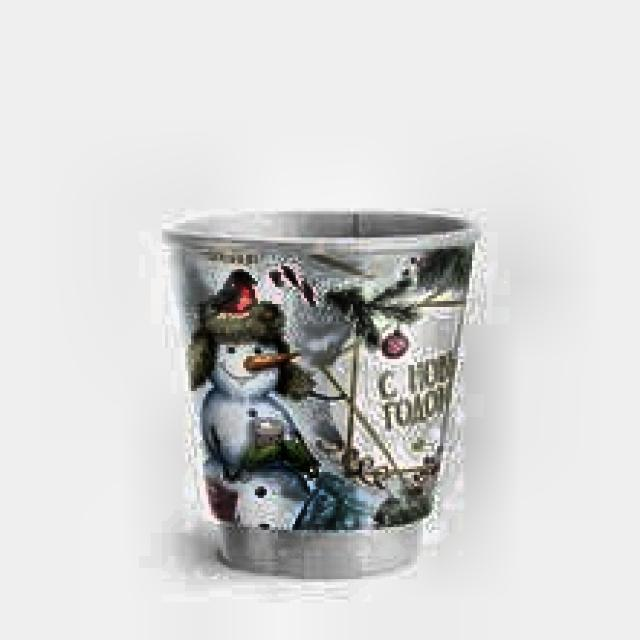Cup: (156, 192, 491, 578)
